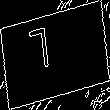L_S: (43, 28, 67, 82)
